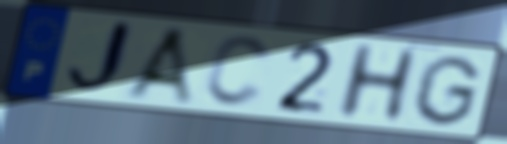2: (275, 40, 335, 118)
A: (121, 25, 198, 109)
C: (201, 33, 275, 110)
G: (408, 53, 485, 128)
H: (331, 42, 423, 123)
J: (62, 17, 137, 100)
